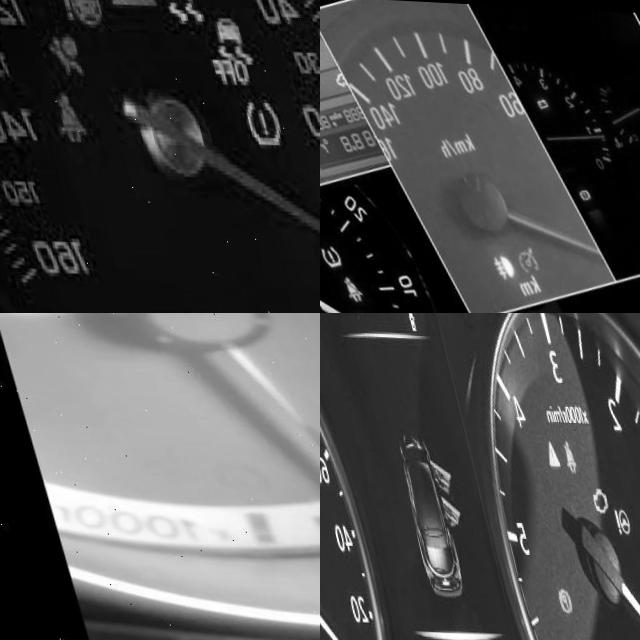Electronic Power Steering: (600, 502, 625, 534)
Electronic Power Steering Warning: (42, 0, 95, 23)
Seat Belt: (31, 85, 70, 144), (550, 432, 572, 470), (329, 275, 348, 300)
